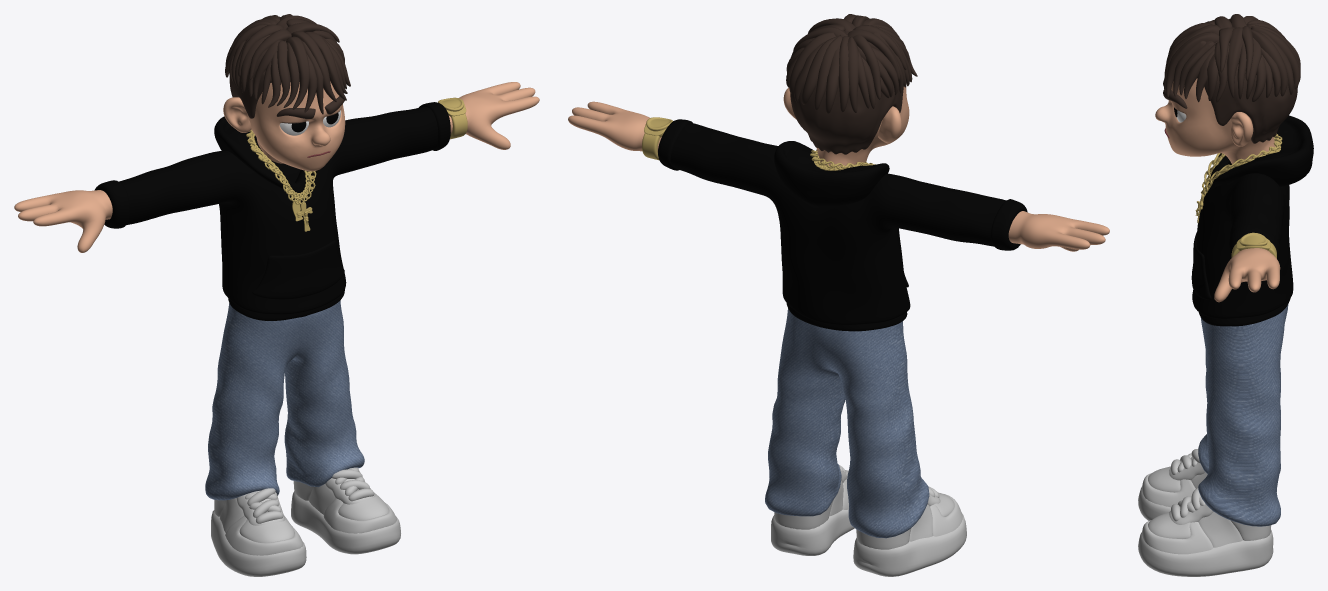
Rendered from yugi3.fbx.
3 views of the same model, side by side, from view 1: azimuth 30°, elevation 25°; view 2: azimuth 150°, elevation 25°; view 3: azimuth 270°, elevation 25° (orthographic). The views are drawn at different scales.
Visible parts, largest first — view 1: yugi, yugi.001, yugi.002; view 2: yugi, yugi.001, yugi.002; view 3: yugi, yugi.001, yugi.002.
Boxes of the visible parts, x1,y1,x2,y2 form: yugi: (14,14,539,576); yugi.001: (205,300,364,500); yugi.002: (246,97,467,231); yugi: (568,14,1109,576); yugi.001: (765,308,929,538); yugi.002: (642,117,875,170); yugi: (1138,14,1313,576); yugi.001: (1198,304,1288,526); yugi.002: (1195,133,1282,258).
Size of the model in its own units: 147 by 139 by 42.8.
Materials: 3 (2 with a texture image).
